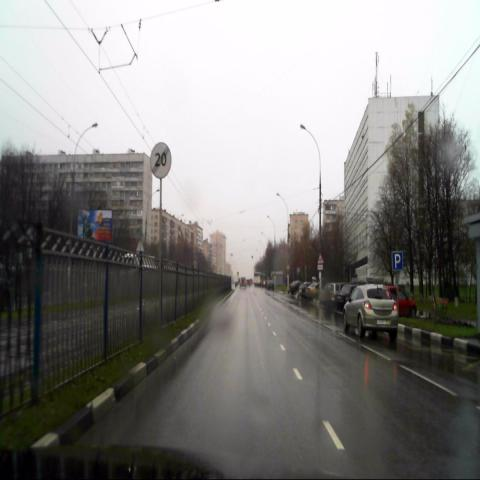3_25: (150, 143, 171, 178)
